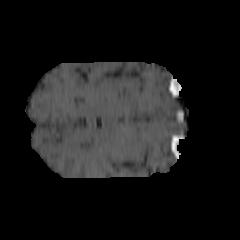glioma: (78, 76, 166, 132)
